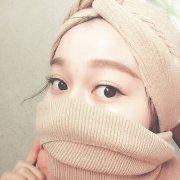OK: (43, 53, 152, 161)
